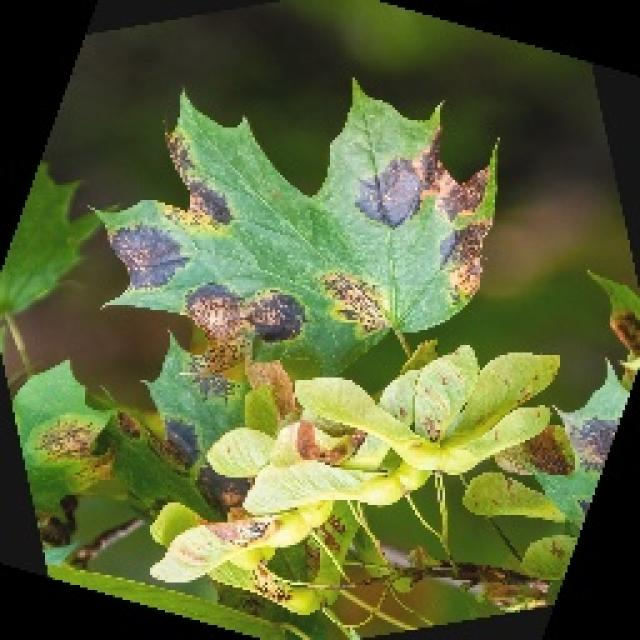Tar_Spot: (140, 108, 471, 482)
